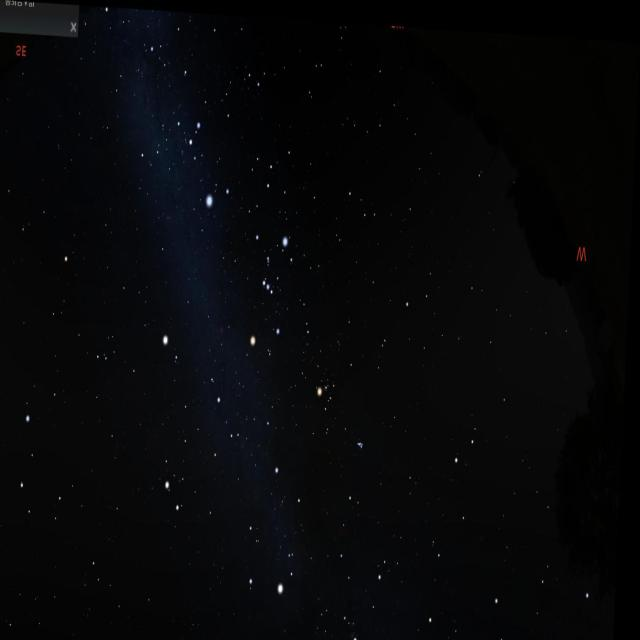canis_major: (180, 109, 237, 213)
canis_minor: (159, 324, 189, 364)
gemini: (165, 378, 248, 522)
orion: (249, 218, 296, 352)
pleiades: (359, 427, 372, 448)
taurus: (310, 349, 382, 458)
